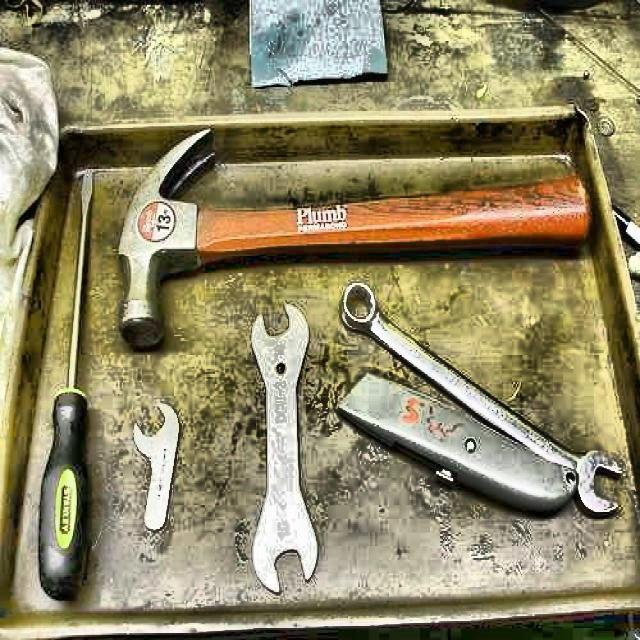hammer: (114, 128, 592, 346)
